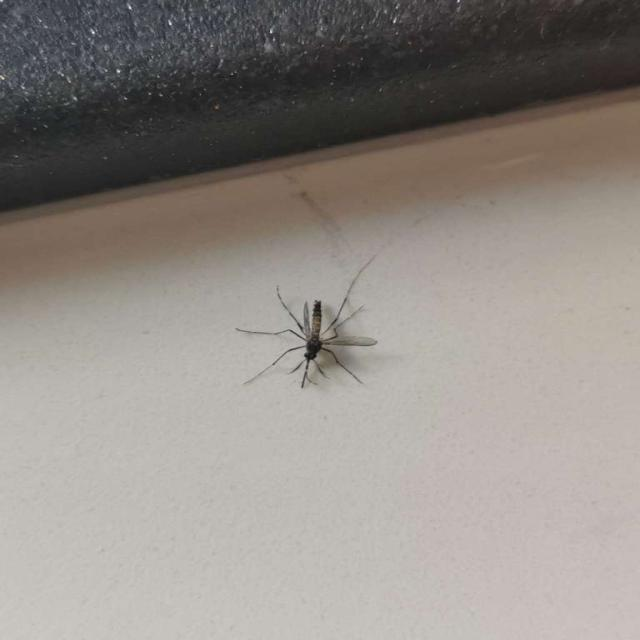albopictus: (228, 254, 388, 393)
